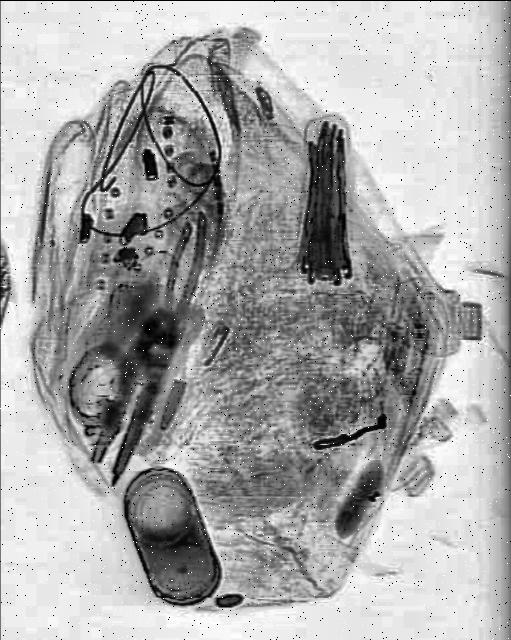Pliers: (80, 299, 192, 486), (150, 205, 214, 368)
